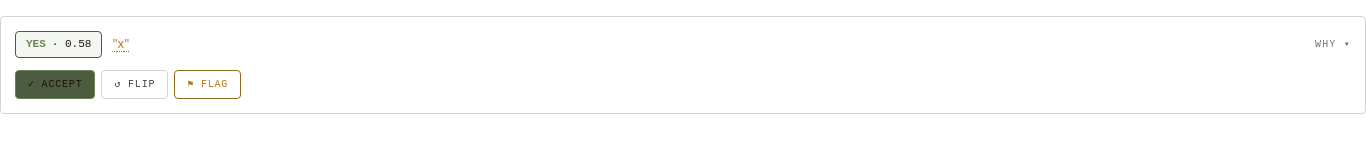
Test: rationale is hidden by default and shown when "why" is clicked
Expected: the text "this is the rationale" is not shown
Click the button "why ▾".
click(1333, 44)  # box 1315,37 -> 1351,52
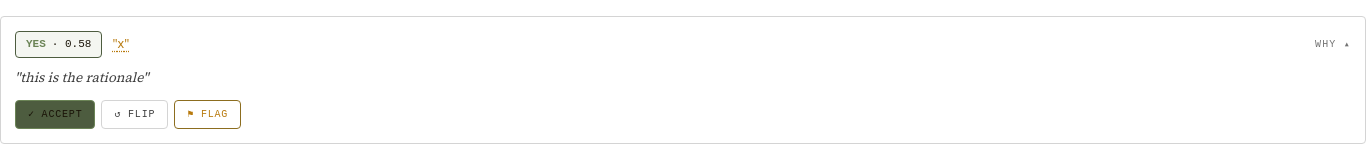
Now the text "\"this is the rationale\"" is shown, box 15,68 -> 148,86
